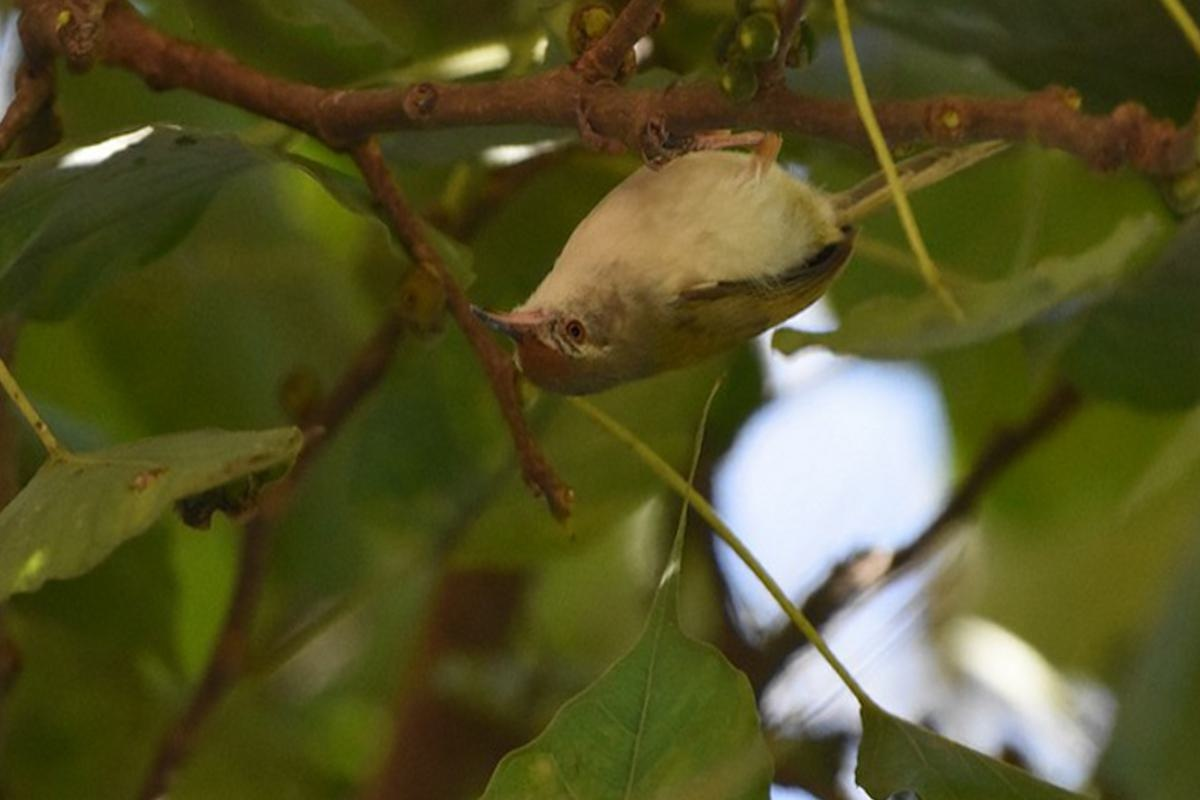tailorbird: (461, 95, 1118, 405)
